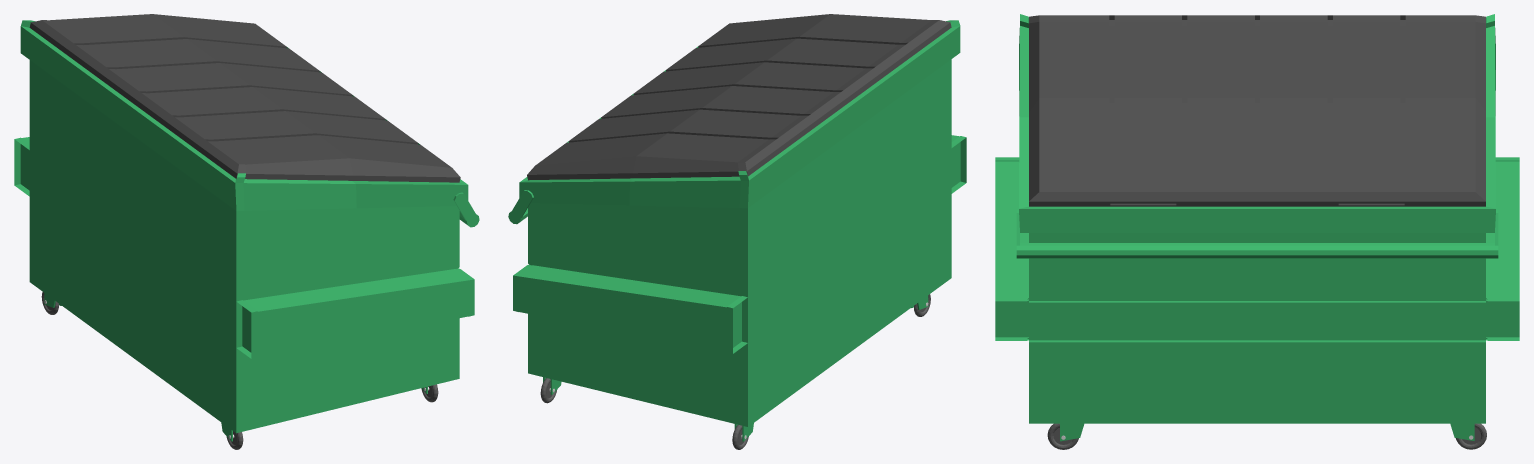
File: Dumpster.fbx
3 views of the same model, side by side, from view 1: azimuth 30°, elevation 25°; view 2: azimuth 150°, elevation 25°; view 3: azimuth 270°, elevation 25° (orthographic). The views are drawn at different scales.
Parts seen in each view (by area): view 1: Container; view 2: Container; view 3: Container.
Boxes of the visible parts, box(x1,y1,x2,y2) form: Container: box(14, 14, 479, 449); Container: box(508, 14, 966, 449); Container: box(995, 14, 1519, 449).
Bounding box in the file's own units: 145 × 168 × 246.
